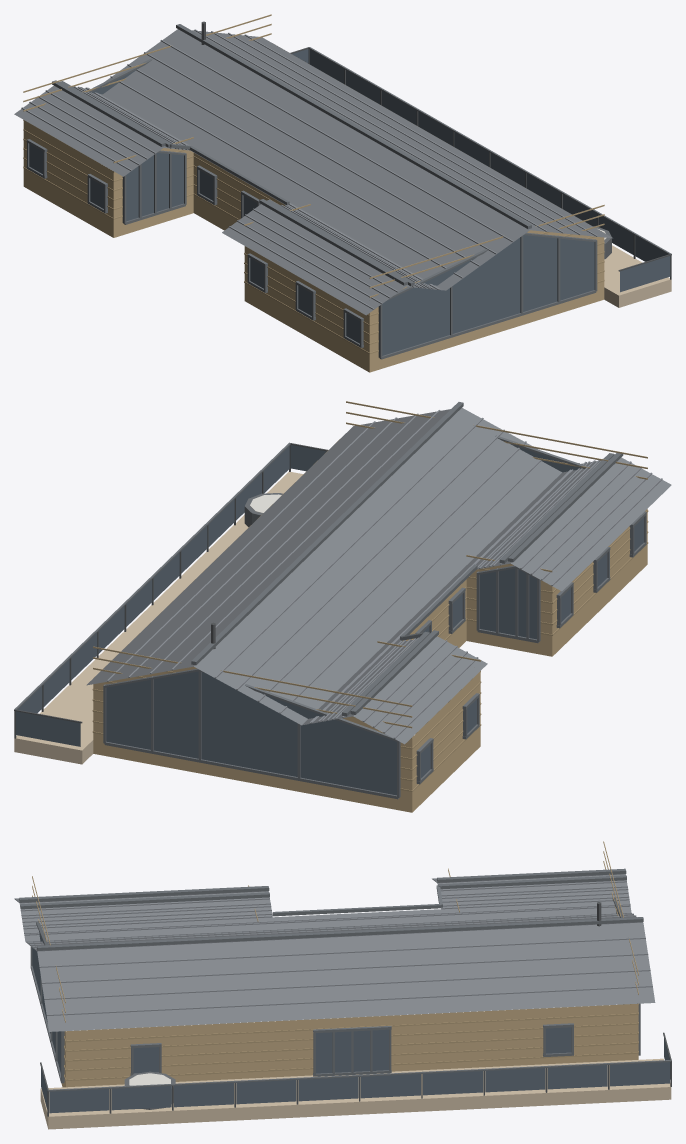
3 views of the same model, one above another, from view 1: azimuth 30°, elevation 25°; view 2: azimuth 150°, elevation 25°; view 3: azimuth 270°, elevation 25° (orthographic). The views are drawn at different scales.
Visible parts, largest first — view 1: slate, door_wood, slate_dk, window_glass_022, slate_lt, door_wood_p, window_glass_020, larch, window_glass_011, pipe, window_glass_002, window_glass_004 (+6 smaller); view 2: slate, window_glass_019, door_wood, slate_dk, slate_lt, larch, door_wood_p, window_glass_021, window_glass_012, pipe, window_glass_011, window_glass_001 (+7 smaller); view 3: slate, door_wood, slate_lt, slate_dk, larch, door_wood_p, window_glass_007, window_glass_004, window_glass_008, window_glass_001, window_glass_005, window_glass_006 (+12 smaller).
Part boxes in pixels (box(x1,y1,x2,y2)): slate: box(14, 29, 612, 315); door_wood: box(23, 76, 604, 372); slate_dk: box(26, 24, 671, 359); window_glass_022: box(382, 235, 594, 355); slate_lt: box(21, 29, 597, 309); door_wood_p: box(23, 14, 604, 354); window_glass_020: box(126, 153, 183, 221); larch: box(604, 245, 671, 307); window_glass_011: box(620, 256, 670, 292); pipe: box(201, 21, 671, 279); window_glass_002: box(599, 215, 633, 254); window_glass_004: box(526, 174, 561, 207); slate: box(86, 408, 671, 744); window_glass_019: box(106, 671, 396, 795); door_wood: box(93, 439, 647, 812); slate_dk: box(14, 402, 646, 799); slate_lt: box(107, 410, 662, 738); larch: box(14, 472, 303, 764); door_wood_p: box(92, 401, 648, 791); window_glass_021: box(479, 568, 536, 639); window_glass_012: box(16, 711, 80, 746); pipe: box(14, 443, 327, 738); window_glass_011: box(290, 445, 326, 471); window_glass_001: box(263, 446, 289, 493); slate: box(14, 874, 655, 1031); door_wood: box(61, 1003, 638, 1087); slate_lt: box(15, 878, 652, 1015); slate_dk: box(19, 868, 671, 1091); larch: box(40, 1058, 671, 1129); door_wood_p: box(32, 841, 638, 1080); window_glass_007: box(423, 1071, 483, 1095); window_glass_004: box(236, 1080, 296, 1104); window_glass_008: box(485, 1068, 545, 1092); window_glass_001: box(49, 1089, 109, 1113); window_glass_005: box(298, 1077, 358, 1101); window_glass_006: box(360, 1074, 420, 1098).
Size of the model in its own units: 16.09 by 4.94 by 23.41.
